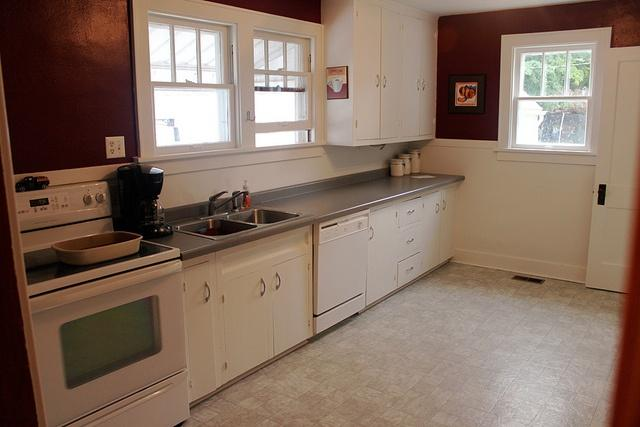Lemari: (320, 0, 438, 147)
